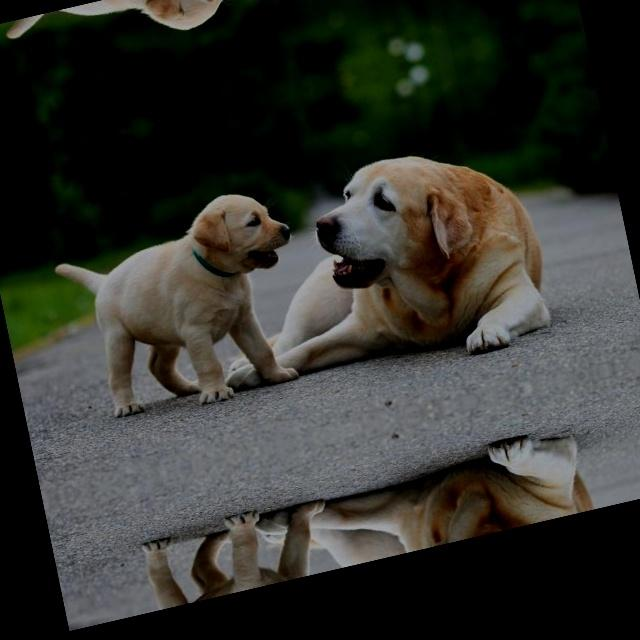dog: (32, 151, 327, 435), (292, 120, 494, 320), (102, 488, 366, 620), (0, 0, 259, 101), (371, 502, 544, 560), (253, 0, 435, 31)
